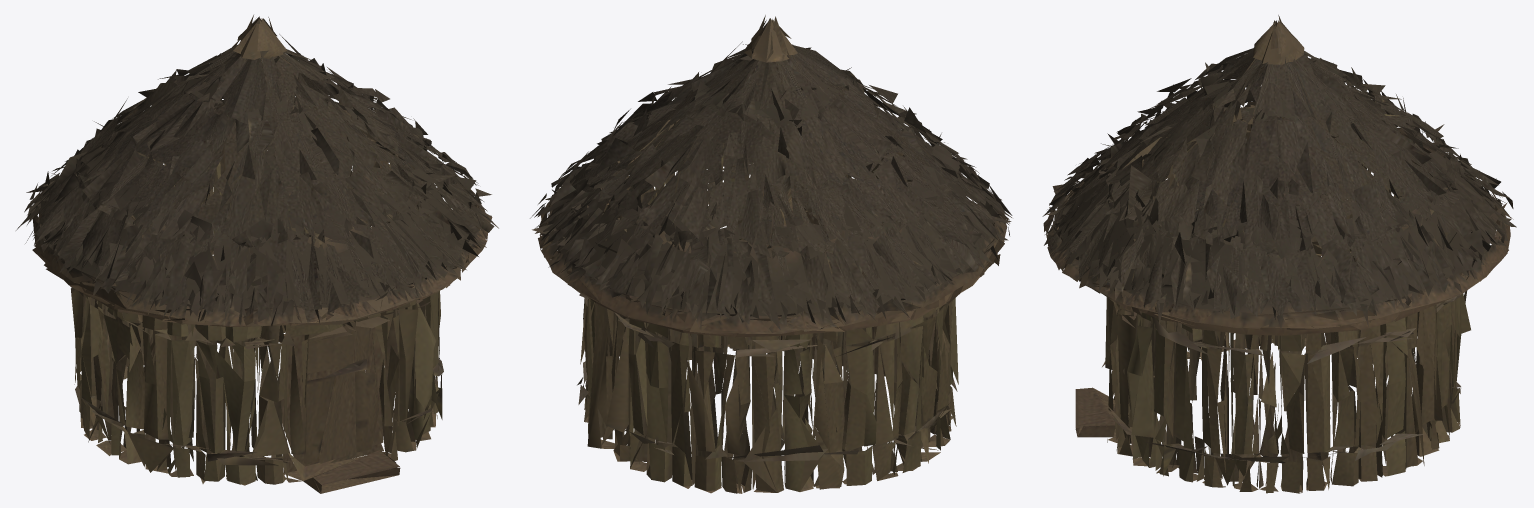
The model's file is hut.glb.
3 renders of one model, left to right at view 1: azimuth 30°, elevation 25°; view 2: azimuth 150°, elevation 25°; view 3: azimuth 270°, elevation 25°, orthographic.
Parts seen in each view (by area): view 1: Mesh_0; view 2: Mesh_0; view 3: Mesh_0.
Part boxes in pixels (<box>): Mesh_0: <box>16,15,498,493</box>; Mesh_0: <box>530,15,1012,493</box>; Mesh_0: <box>1042,15,1516,493</box>.
Bounding box in the file's own units: 1.87 × 1.74 × 1.86.
1 material, 1 textured.
